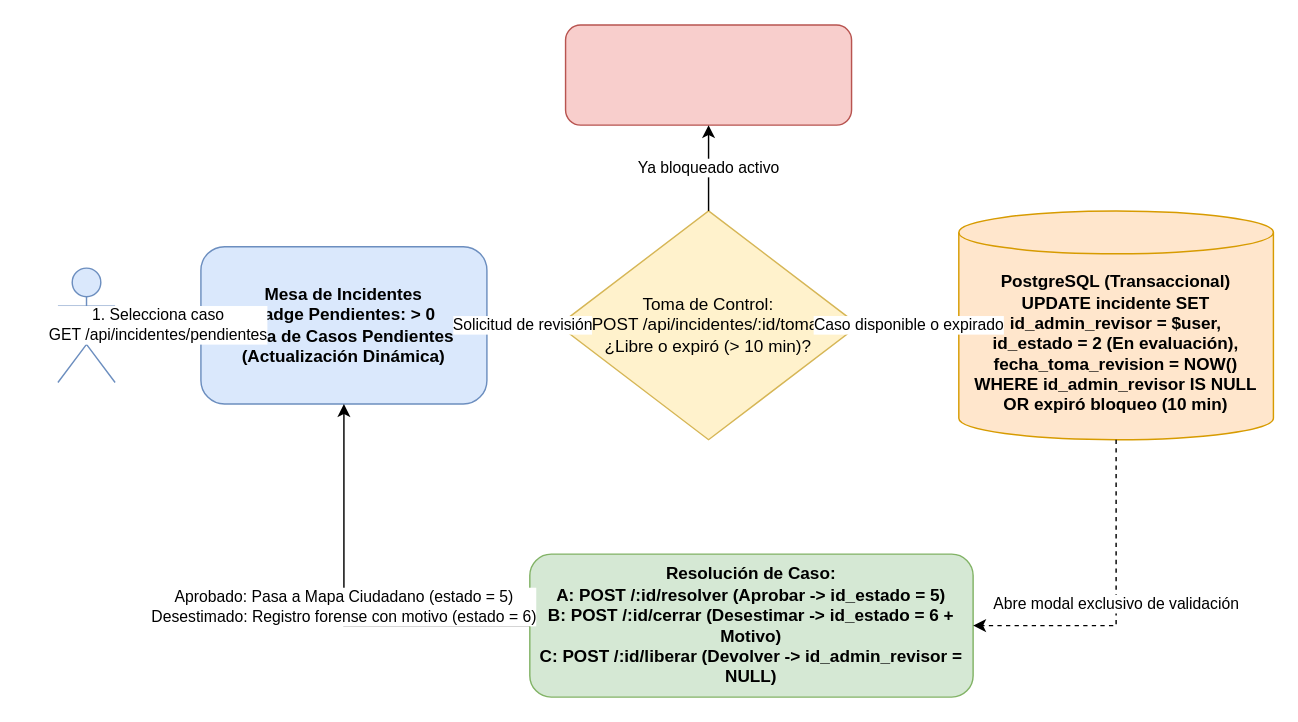
Some shapes in this 1298 by 722 pixel diagram are drawn without their labels. The shapes that lost their labels are listed below. From the top down, each one's centre as x and y in pixels, then its label:
the point at 708,74: Error 409: Conflicto 'El caso está siendo evaluado por otro analista'
the point at 85,325: Analista / Admin
